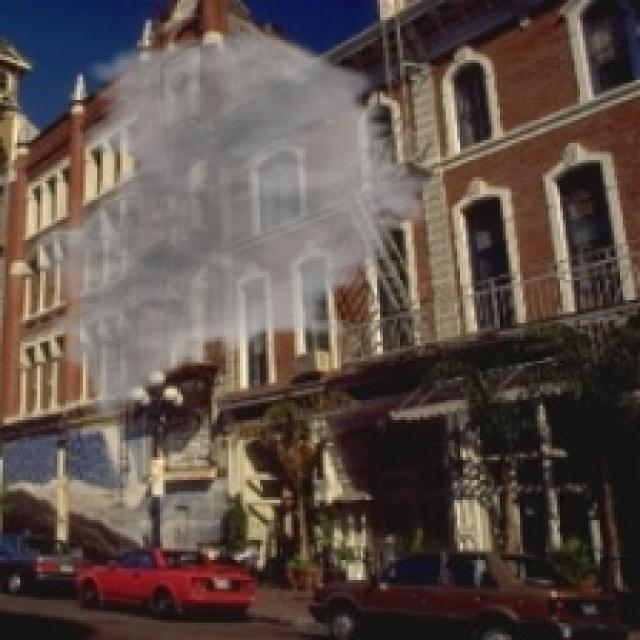Smoke: (20, 26, 446, 426)
